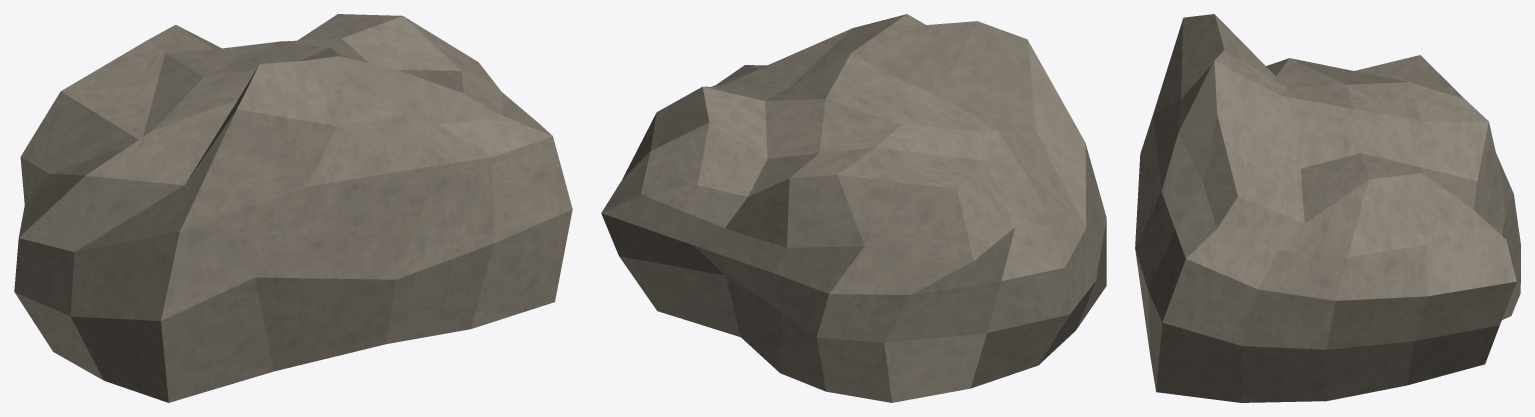
Rendered from Pedra_1_Clara.fbx.
The picture shows the model from 3 angles, left to right: view 1: azimuth 30°, elevation 25°; view 2: azimuth 150°, elevation 25°; view 3: azimuth 270°, elevation 25°; orthographic projection. The views are drawn at different scales.
Parts seen in each view (by area): view 1: Pedra_1; view 2: Pedra_1; view 3: Pedra_1.
Part boxes in pixels (bbox=[...]): Pedra_1: bbox=[14, 14, 572, 402]; Pedra_1: bbox=[601, 14, 1106, 402]; Pedra_1: bbox=[1135, 14, 1520, 402].
Size of the model in its own units: 135 by 82.07 by 101.
Materials: 1 (1 with a texture image).
